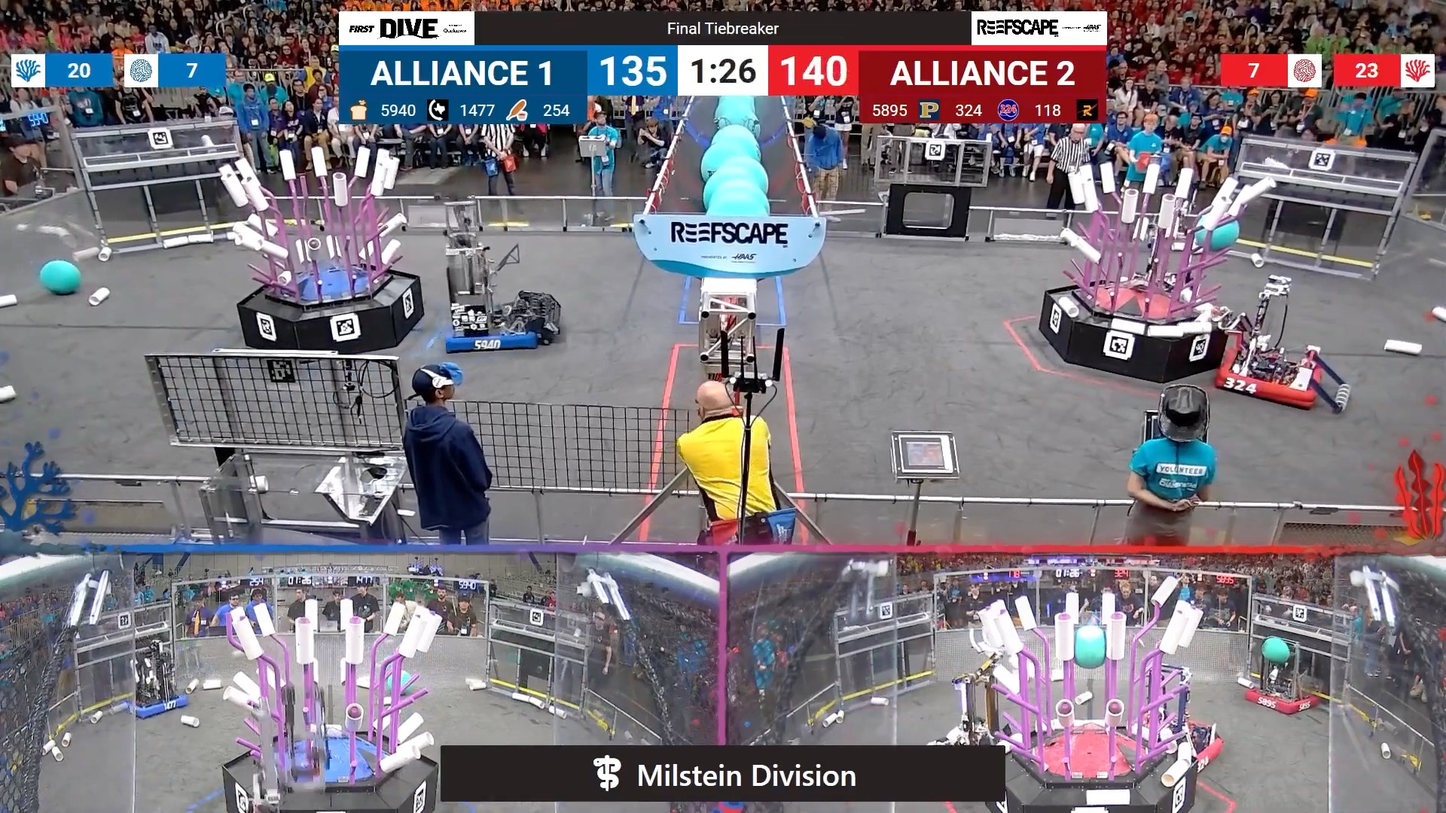bumpers: (1209, 344, 1336, 416), (438, 297, 558, 357), (1238, 685, 1325, 719), (116, 692, 196, 724), (1183, 729, 1229, 774)
